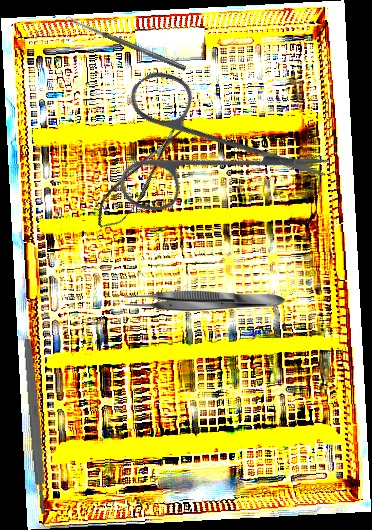Iris Scissors: (74, 18, 335, 279)
Micro Scissor: (87, 120, 193, 236)
Scalpel Handle: (21, 338, 49, 515)
Surgical Spoon: (64, 14, 188, 72)
Tissue Forceps: (124, 290, 285, 312)
